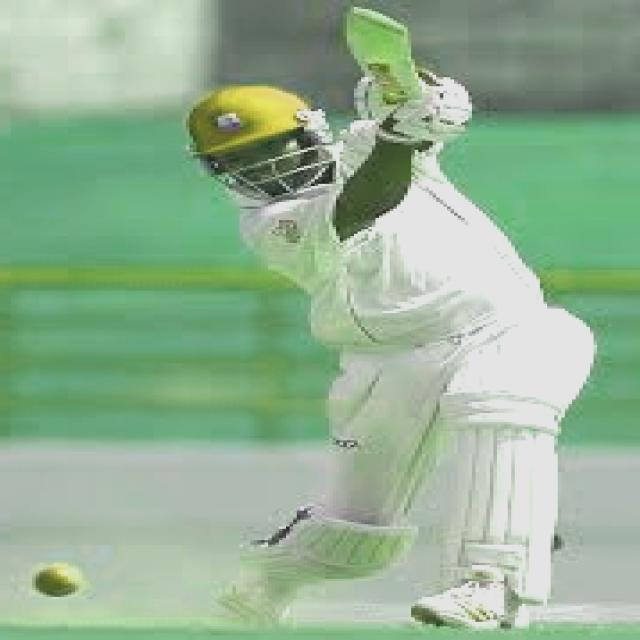toe: (331, 0, 422, 46)
